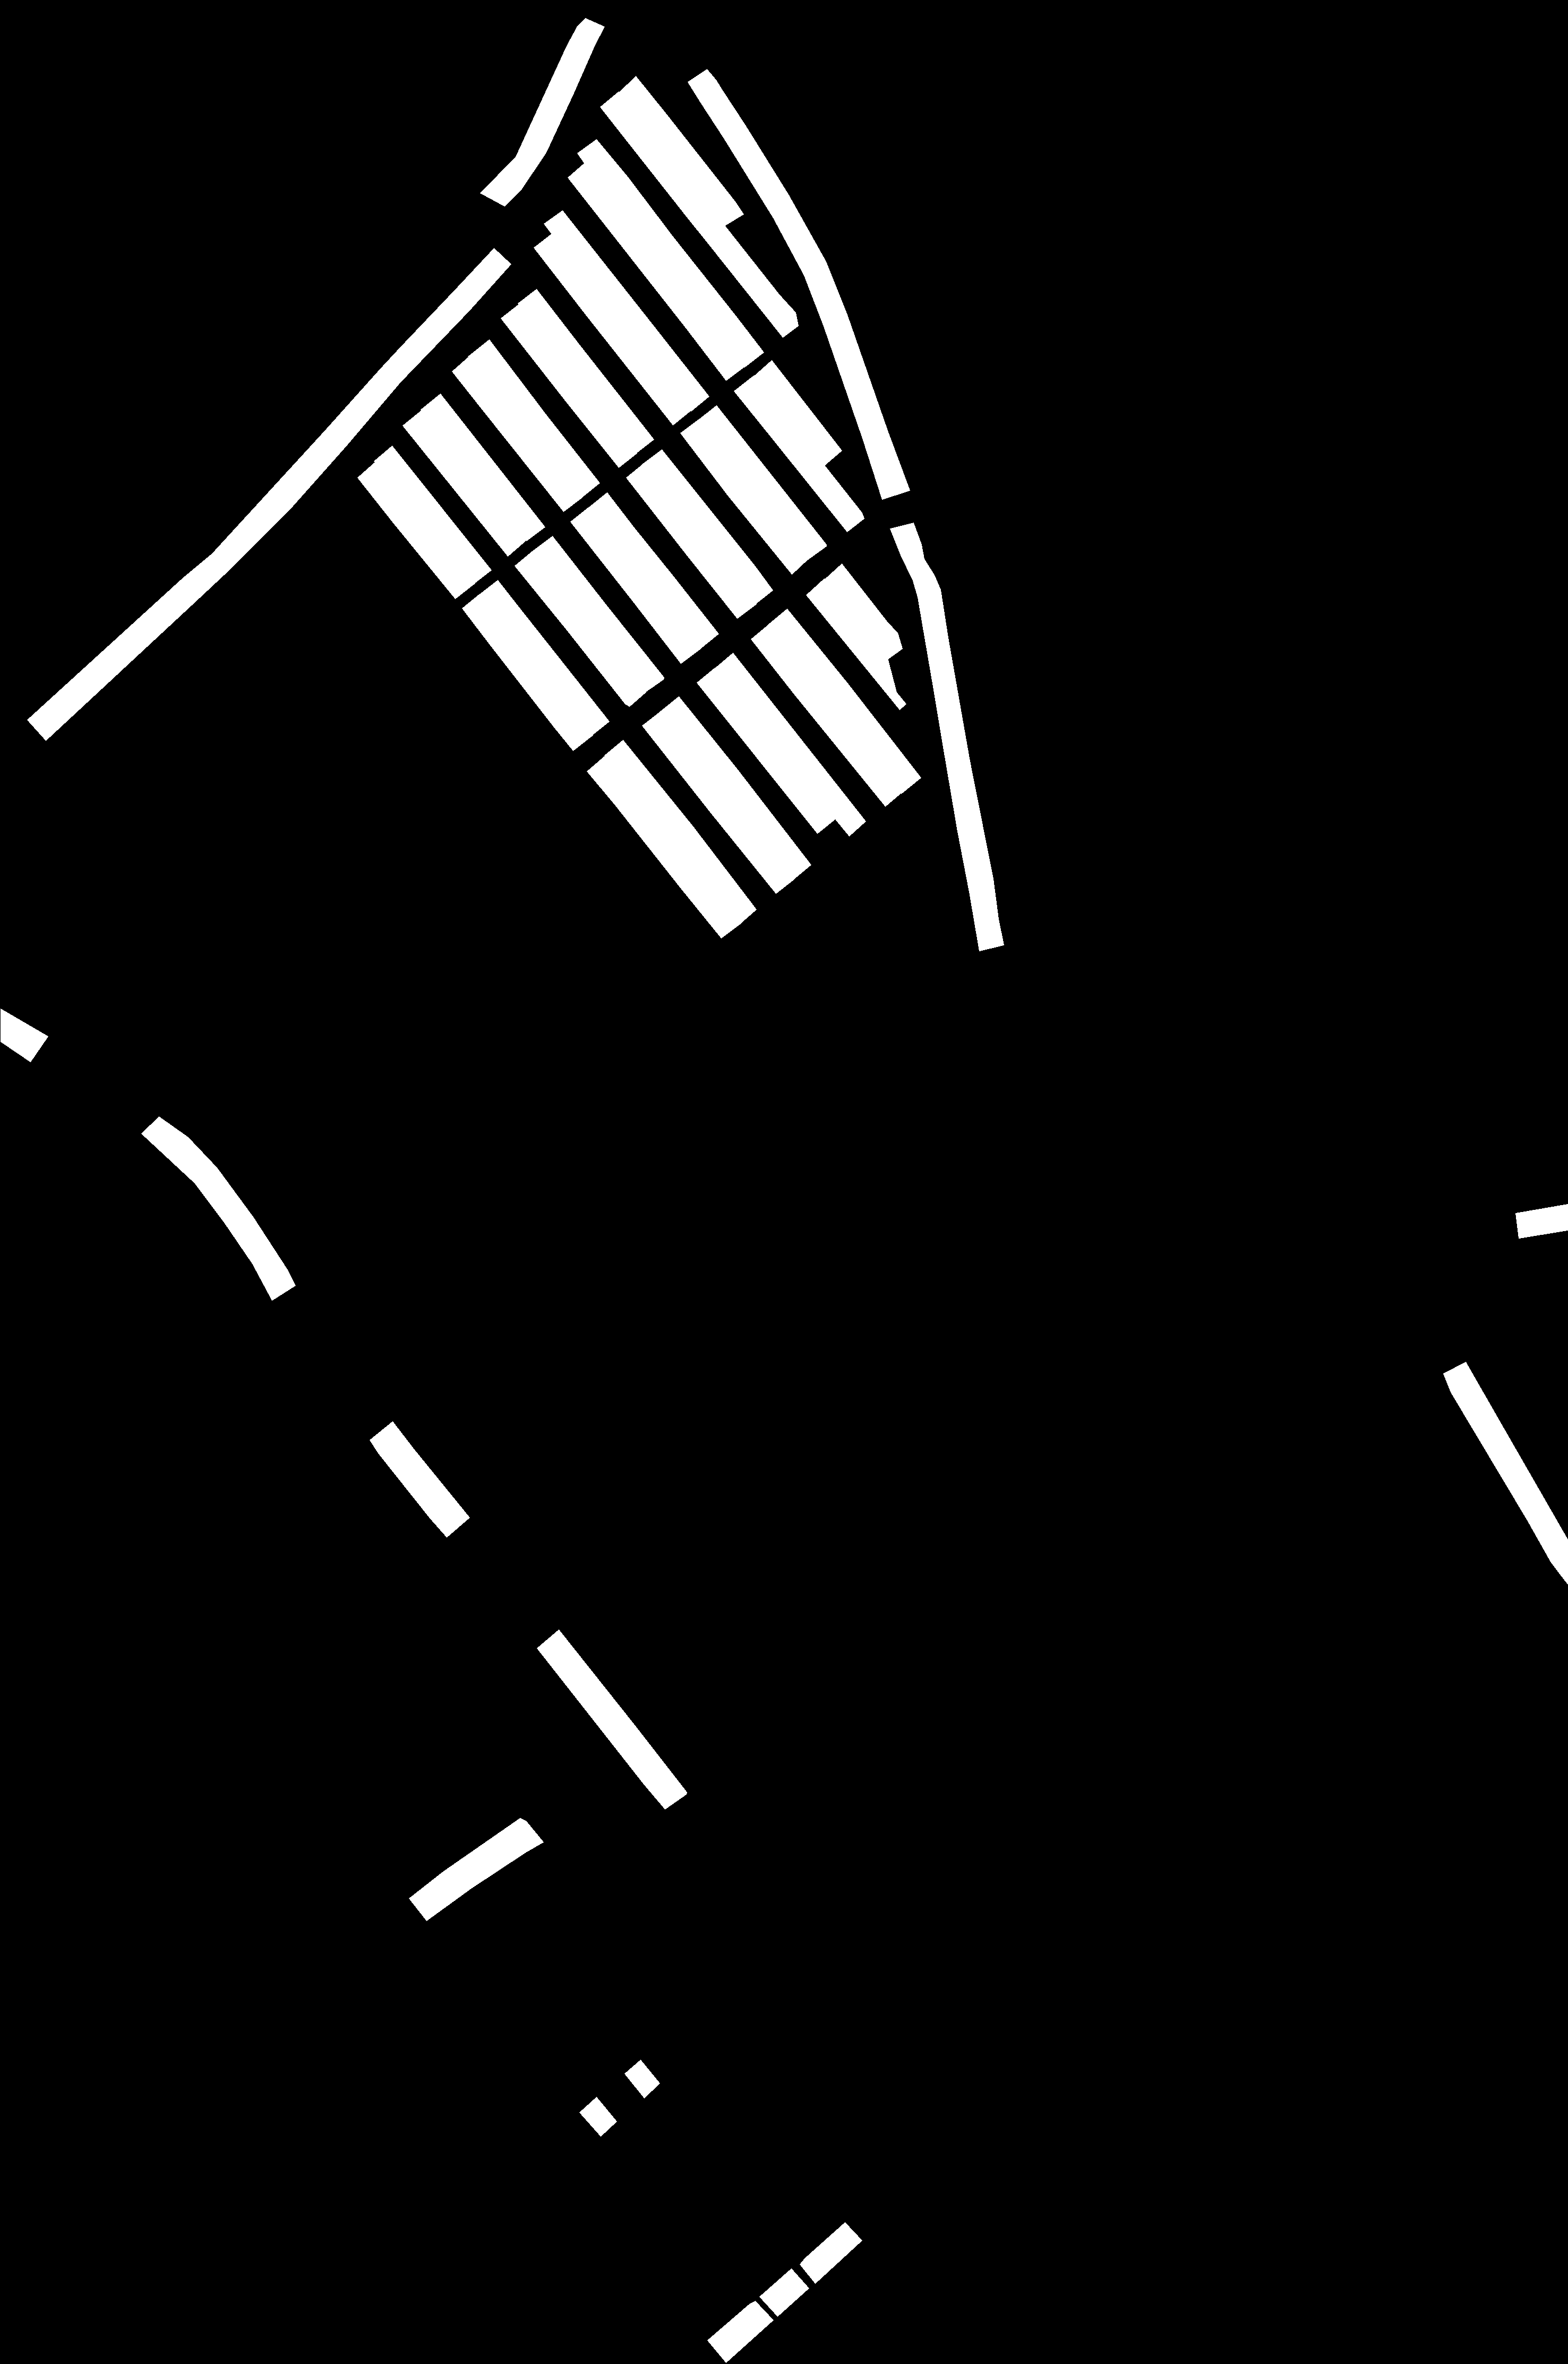parkingspot: (26, 248, 511, 740), (688, 68, 910, 499), (600, 91, 798, 338), (891, 523, 1003, 950), (577, 140, 763, 367), (567, 163, 745, 380), (544, 210, 709, 411), (534, 233, 693, 425), (586, 754, 740, 938), (142, 1116, 296, 1300), (768, 609, 920, 793), (751, 623, 903, 807), (604, 740, 756, 924), (716, 653, 866, 836), (660, 696, 810, 880), (642, 710, 793, 894), (1444, 1361, 1568, 1584), (537, 1629, 686, 1809), (479, 17, 604, 206), (696, 668, 836, 833), (518, 289, 654, 455), (500, 304, 637, 467), (467, 339, 600, 499), (588, 492, 719, 649), (514, 549, 646, 707), (478, 579, 609, 737), (462, 593, 593, 751), (733, 376, 864, 532), (534, 535, 663, 693), (451, 355, 581, 511), (570, 507, 700, 663), (642, 450, 772, 604), (626, 464, 756, 618), (681, 418, 808, 574), (698, 406, 826, 560), (618, 75, 744, 226), (402, 409, 528, 556), (420, 394, 544, 541), (374, 446, 492, 584), (357, 460, 474, 598), (409, 1818, 542, 1921), (807, 579, 906, 710), (369, 1421, 469, 1536), (752, 360, 842, 465), (824, 563, 903, 660), (707, 2301, 773, 2362), (800, 2222, 861, 2284), (0, 1008, 47, 1062), (759, 2268, 808, 2317), (1515, 1204, 1568, 1239), (579, 2096, 616, 2137), (625, 2060, 660, 2098)
